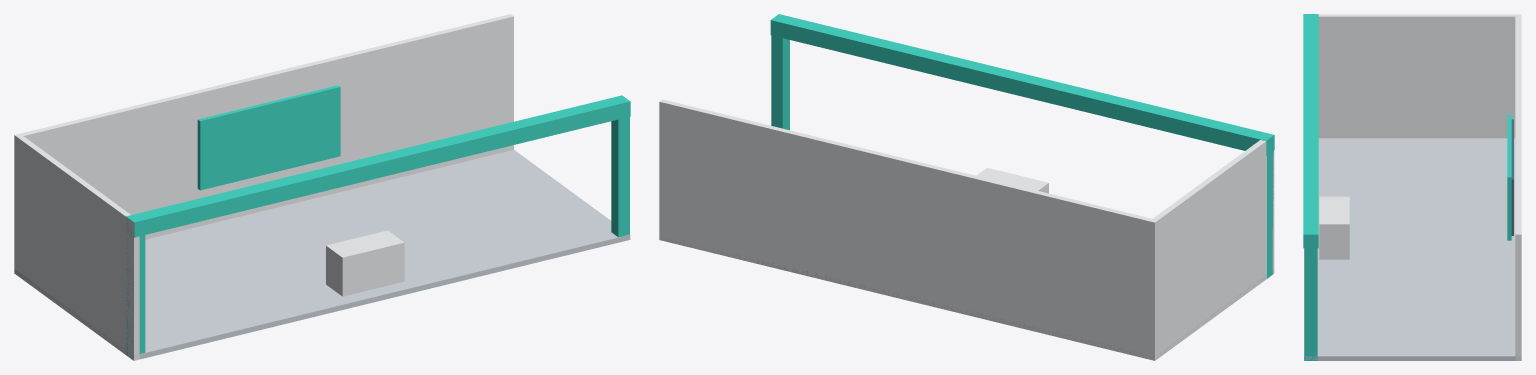
3 renders of one model, left to right at view 1: azimuth 30°, elevation 25°; view 2: azimuth 150°, elevation 25°; view 3: azimuth 270°, elevation 25°, orthographic. The views are drawn at different scales.
Visible parts, largest first — view 1: Exhibition Booth Concept; view 2: Exhibition Booth Concept; view 3: Exhibition Booth Concept.
Boxes of the visible parts, x1,y1,x2,y2 form: Exhibition Booth Concept: (14, 14, 630, 360); Exhibition Booth Concept: (659, 14, 1274, 360); Exhibition Booth Concept: (1303, 14, 1521, 360).
Size of the model in its own units: 12 by 3.2 by 5.02.
